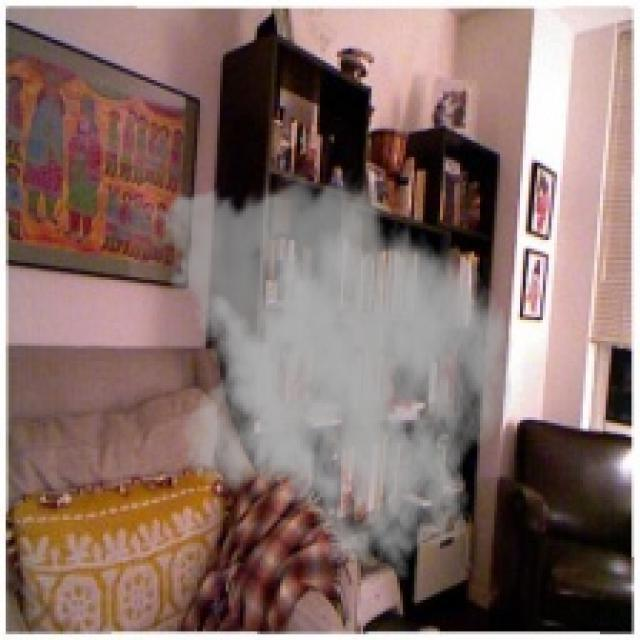Smoke: (146, 166, 514, 583)
